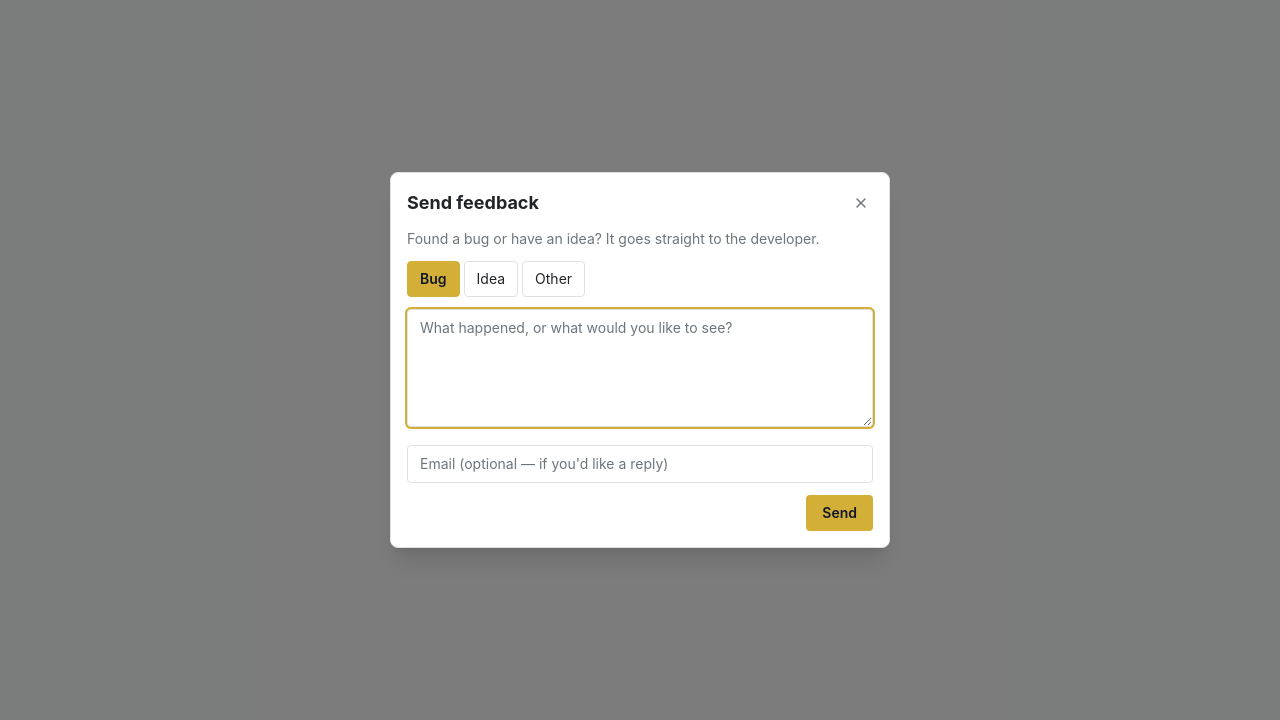
it: FeedbackModal › shows an error and stays open when sending fails
The width and height of the screenshot is (1280, 720).
In the text box named "Message": (640, 368) x1=407 y1=309 x2=873 y2=427, type "Generating a PDF hangs forever"
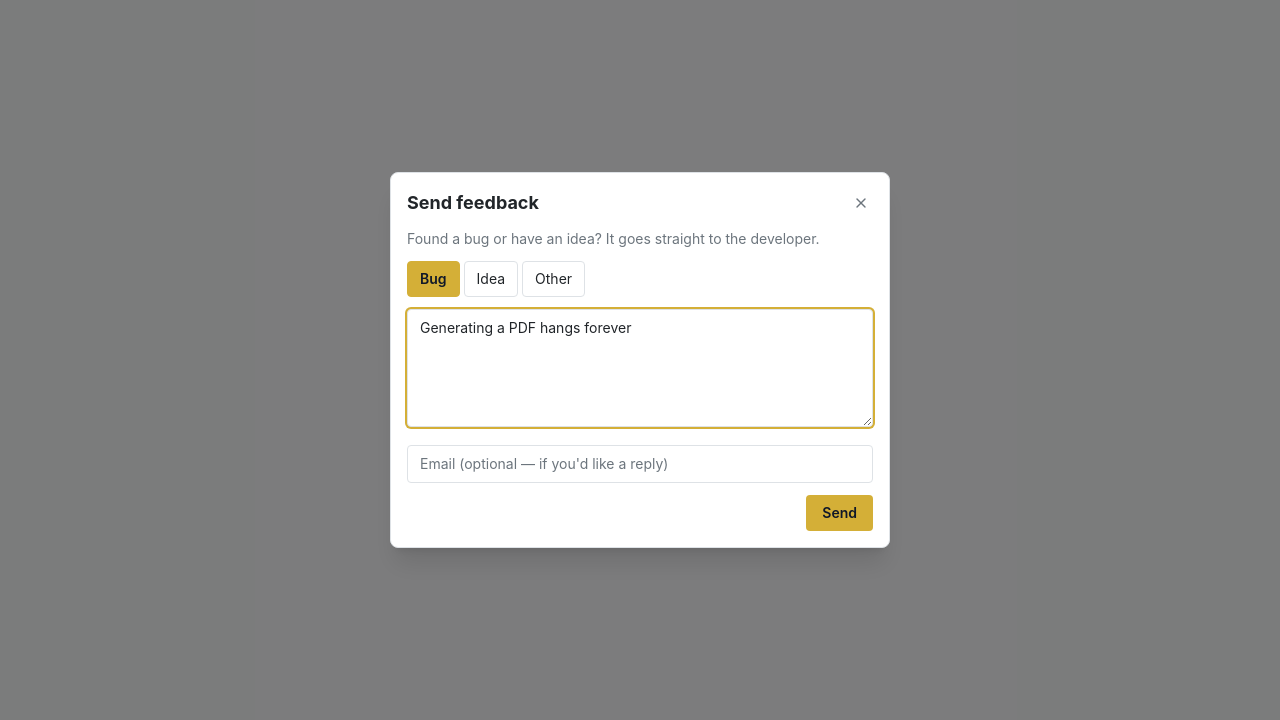
Click the button "Send": click(840, 513) x1=806 y1=495 x2=873 y2=531
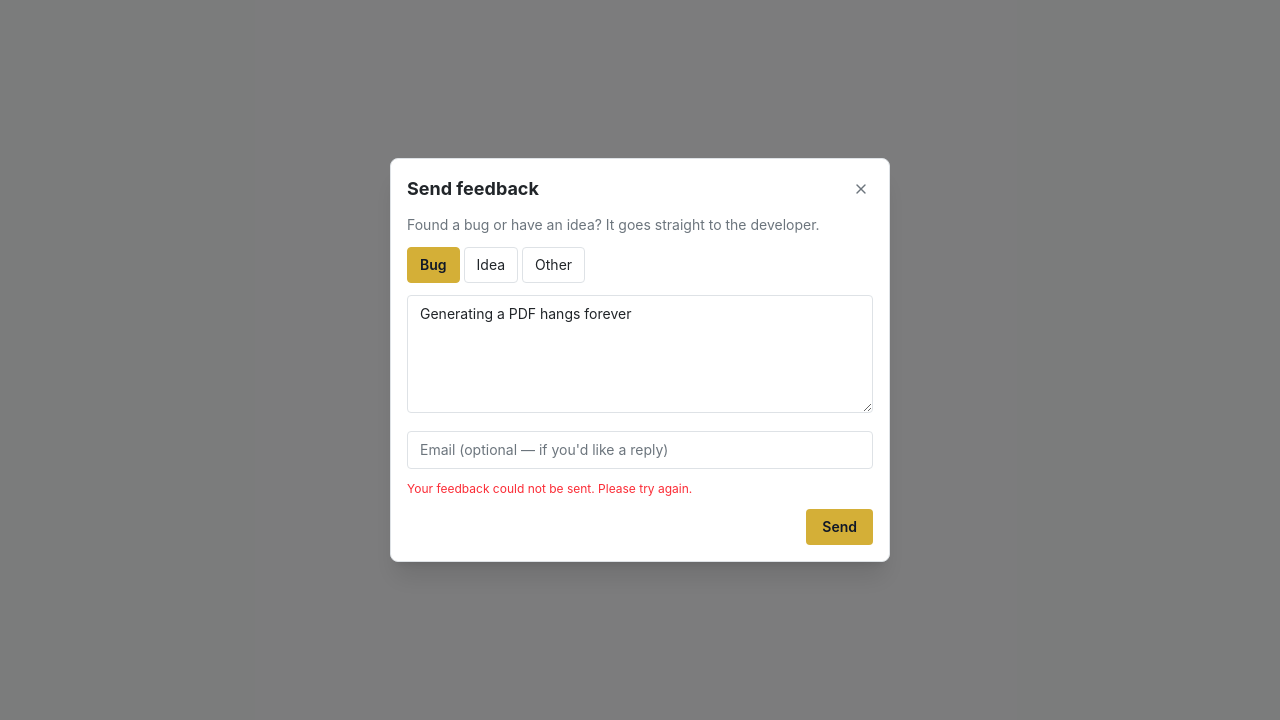
expect the button "Send" is enabled: met, box x1=806 y1=509 x2=873 y2=545
expect the message shows "could not be sent": met, box x1=407 y1=481 x2=692 y2=496
